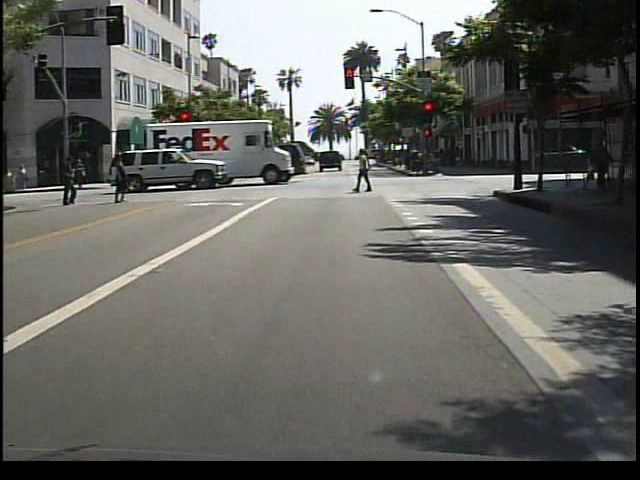person: (585, 136, 616, 197), (107, 150, 133, 207), (354, 146, 379, 195), (59, 157, 82, 207)
